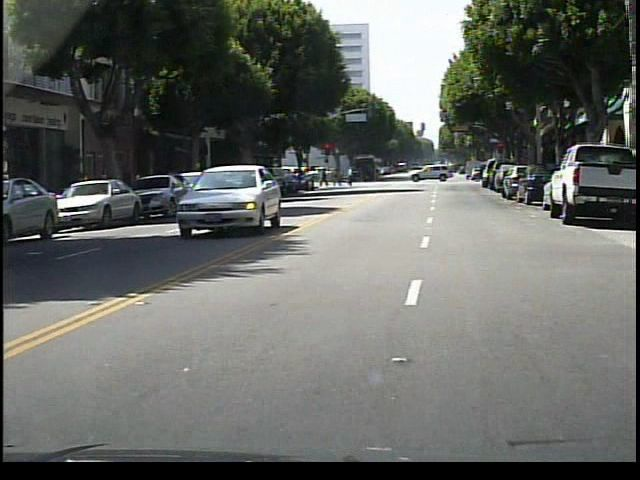person: (341, 163, 361, 193)
